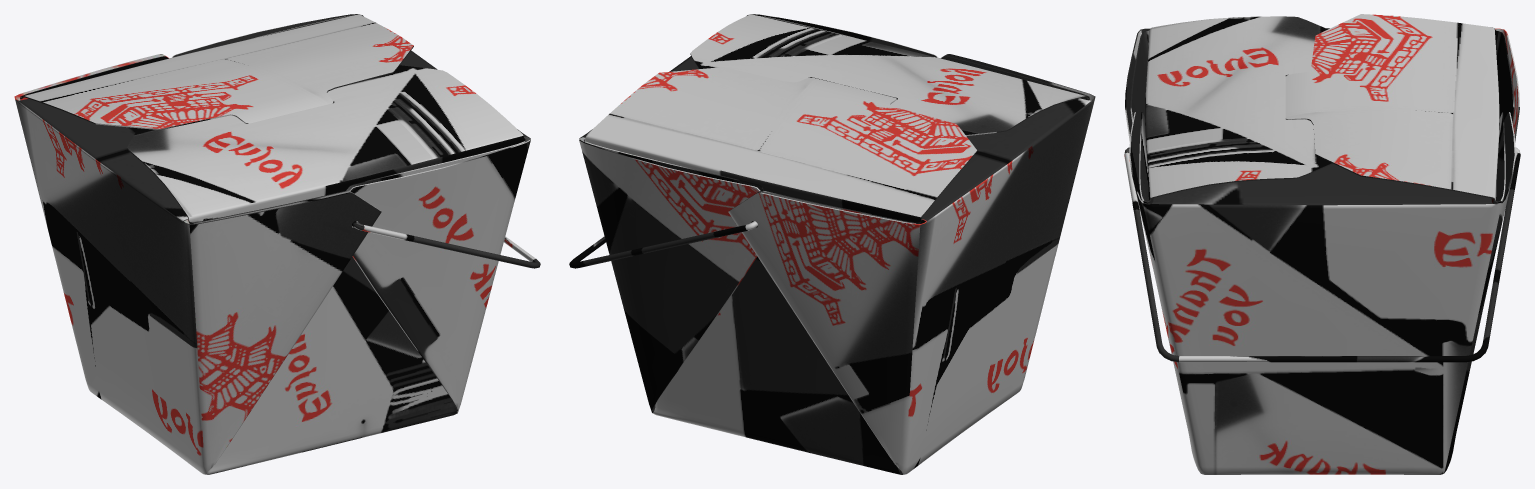
Rendered from TakeOutBoxV2.gltf.
3 renders of one model, left to right at view 1: azimuth 30°, elevation 25°; view 2: azimuth 150°, elevation 25°; view 3: azimuth 270°, elevation 25°, orthographic. The views are drawn at different scales.
Parts seen in each view (by area): view 1: TakeOutBox; view 2: TakeOutBox; view 3: TakeOutBox.
Boxes of the visible parts, x1,y1,x2,y2 form: TakeOutBox: (14,14,540,474); TakeOutBox: (569,14,1095,474); TakeOutBox: (1124,14,1520,474).
Bounding box in the file's own units: 4.02 × 3.17 × 3.59.
1 material, 1 textured.
